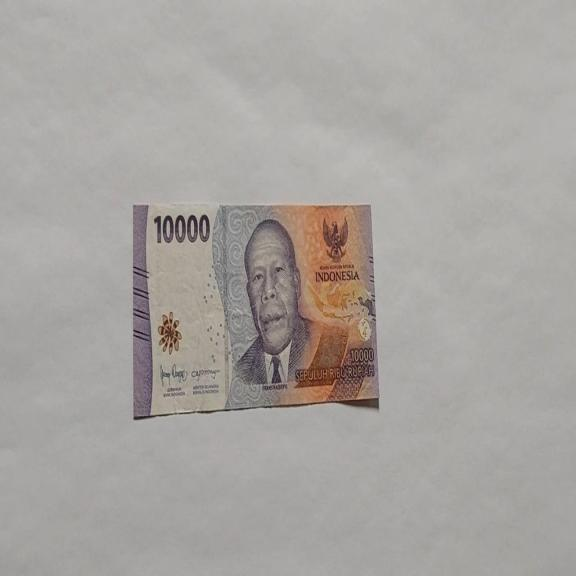Kertas: (132, 200, 380, 419), (153, 210, 210, 245)
